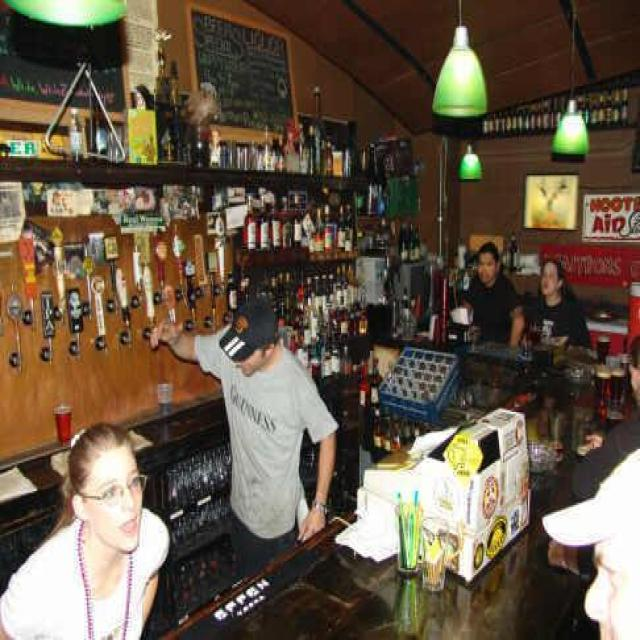indoor-plant: (0, 0, 637, 636)
lamps: (430, 0, 488, 117), (550, 0, 590, 156)
tables: (158, 438, 593, 638)
white-board: (183, 2, 298, 135)
